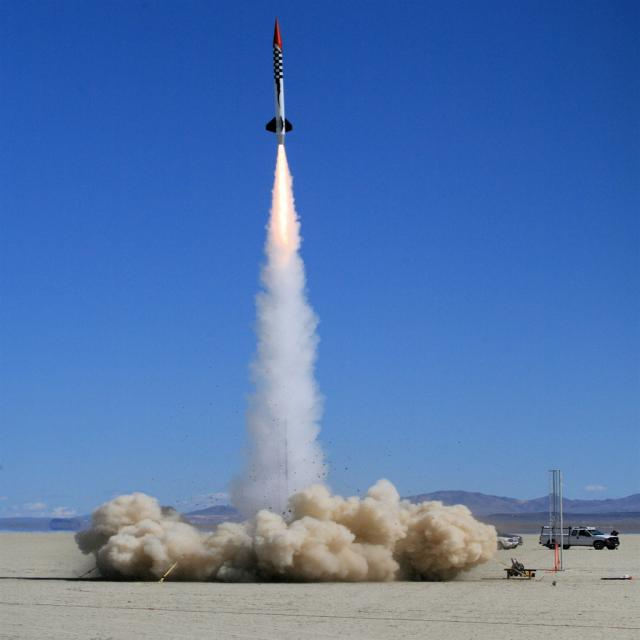rocket: (250, 17, 306, 308)
